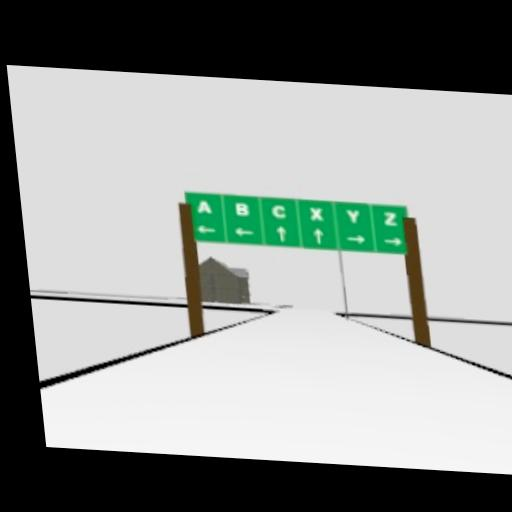A: (196, 199, 213, 215)
B: (234, 201, 251, 217)
C: (270, 205, 287, 220)
Left: (197, 224, 217, 236), (235, 227, 255, 238)
Right: (346, 234, 366, 245), (384, 236, 402, 248)
Straight: (276, 226, 288, 243), (313, 228, 325, 245)
X: (308, 206, 325, 221)
Y: (346, 209, 361, 225)
Z: (383, 211, 398, 227)
